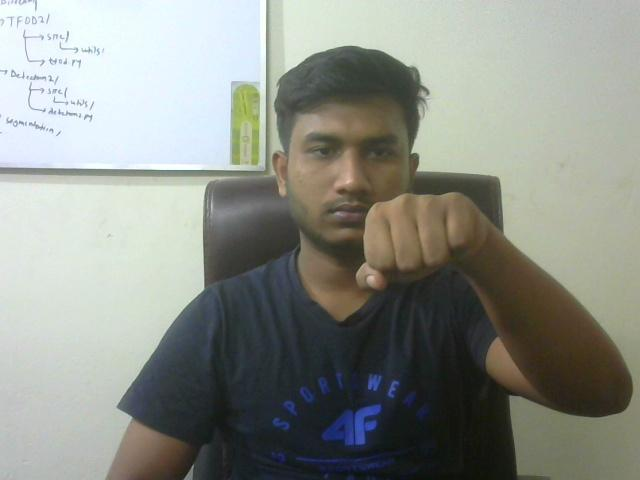Yes: (333, 186, 500, 297)
